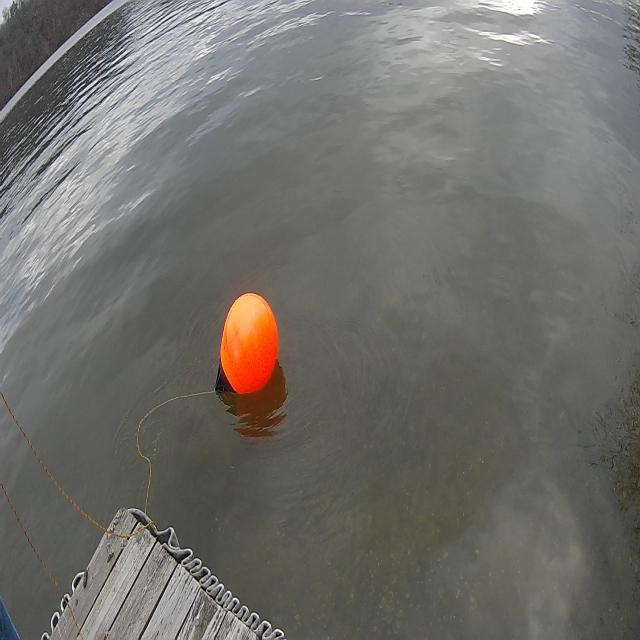Buoy: (218, 289, 280, 398)
